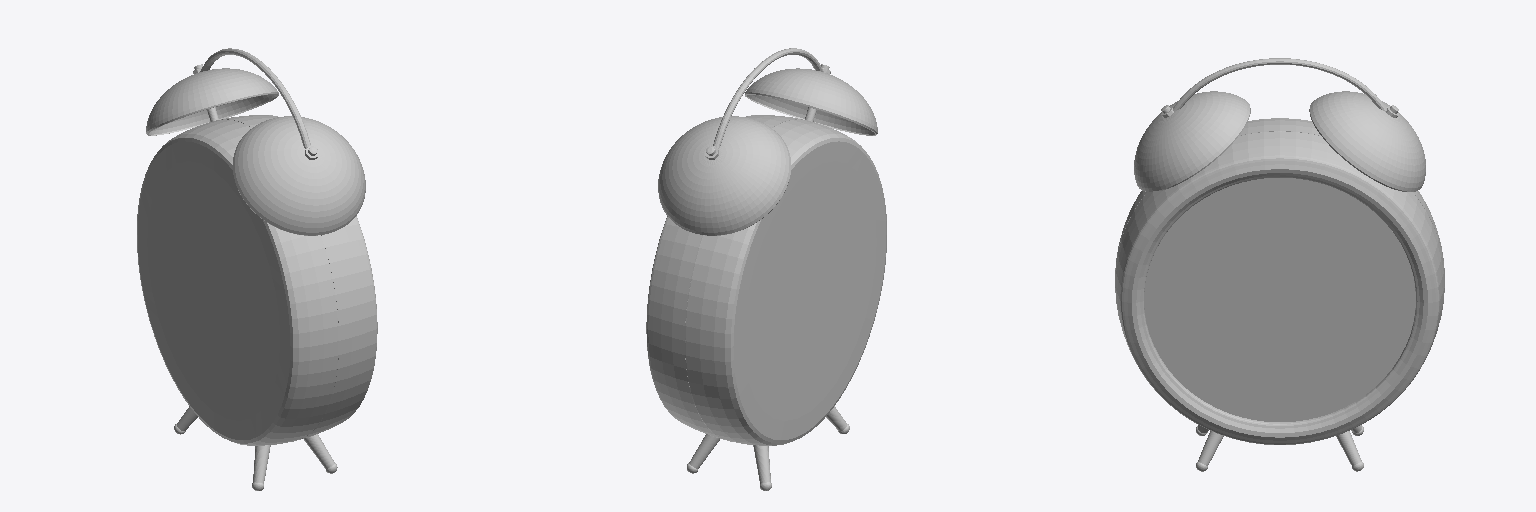
The model's file is relogio2.obj.
The picture shows the model from 3 angles: view 1: azimuth 30°, elevation 25°; view 2: azimuth 150°, elevation 25°; view 3: azimuth 270°, elevation 25°; orthographic projection.
Visible parts, largest first — view 1: alarm_clock; view 2: alarm_clock; view 3: alarm_glass, alarm_clock.
Part boxes in pixels (x1,y1,x2,y2): alarm_clock: (137,48,377,490); alarm_clock: (646,48,886,490); alarm_glass: (1144,178,1415,421); alarm_clock: (1115,58,1444,471).
Bounding box in the file's own units: 1.91 × 6 × 4.55.